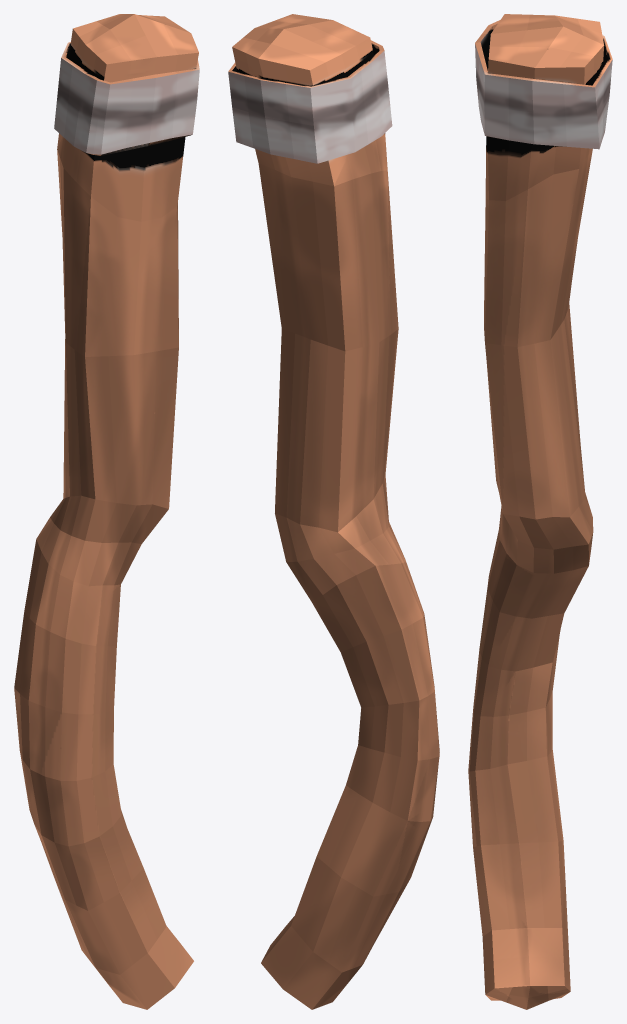
Rendered from torch.obj.
The picture shows the model from 3 angles, left to right: view 1: azimuth 30°, elevation 25°; view 2: azimuth 150°, elevation 25°; view 3: azimuth 270°, elevation 25°; orthographic projection. The views are drawn at different scales.
Visible parts, largest first — view 1: Cube; view 2: Cube; view 3: Cube.
Boxes of the visible parts, x1,y1,x2,y2 form: Cube: [14, 14, 199, 1009]; Cube: [228, 14, 439, 1009]; Cube: [468, 14, 612, 1009].
Bounding box in the file's own units: 0.7189 × 3.81 × 0.5036.
